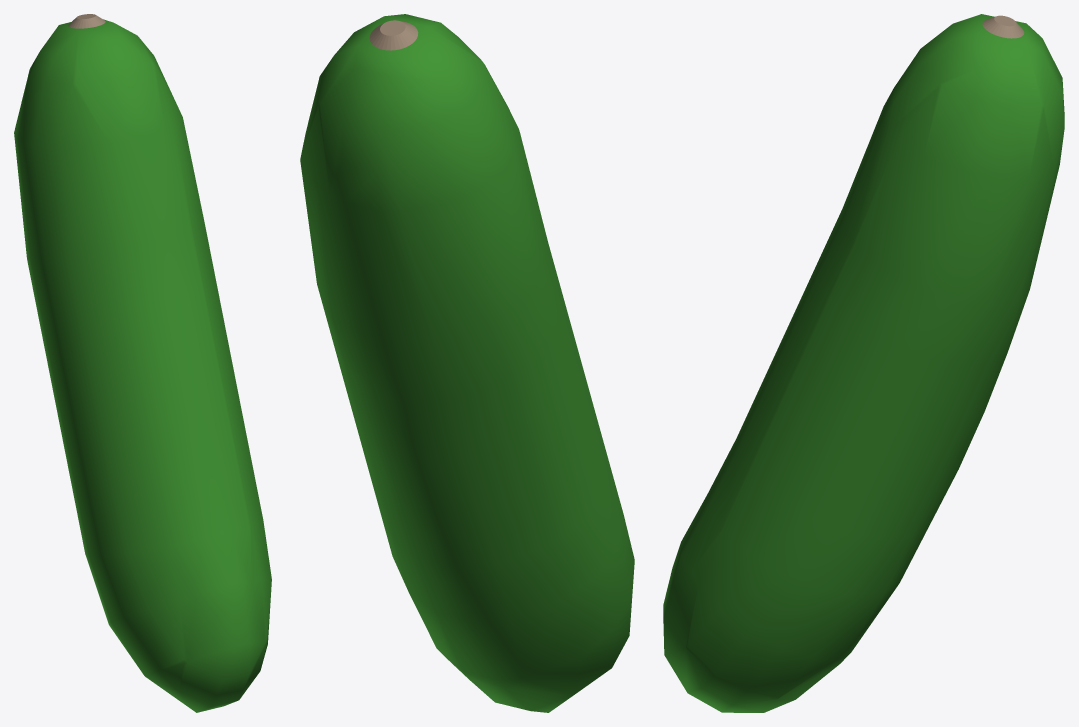
File: cucumber.fbx
3 views of the same model, side by side, from view 1: azimuth 30°, elevation 25°; view 2: azimuth 150°, elevation 25°; view 3: azimuth 270°, elevation 25° (orthographic). The views are drawn at different scales.
Visible parts, largest first — view 1: Cylindre.001; view 2: Cylindre.001; view 3: Cylindre.001.
Boxes of the visible parts, x1,y1,x2,y2 form: Cylindre.001: (14, 14, 271, 712); Cylindre.001: (300, 14, 634, 712); Cylindre.001: (663, 14, 1064, 712).
Size of the model in its own units: 102 by 379 by 201.
